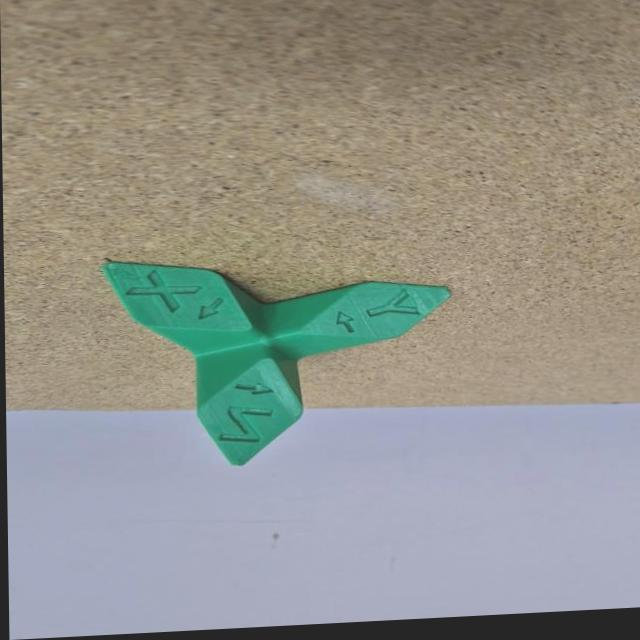eje: (92, 239, 464, 479)
